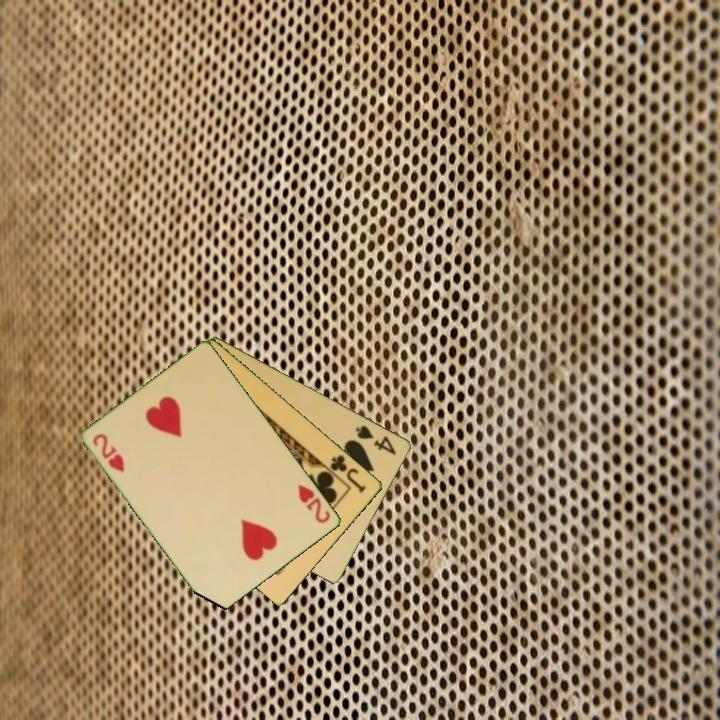2h: (295, 481, 334, 526), (90, 430, 128, 475)
4s: (352, 422, 399, 458)
Jc: (327, 451, 369, 496)
